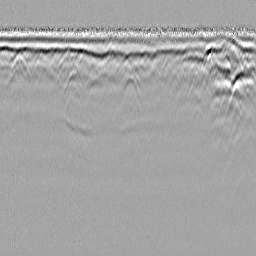cavity: (119, 73, 141, 102)
